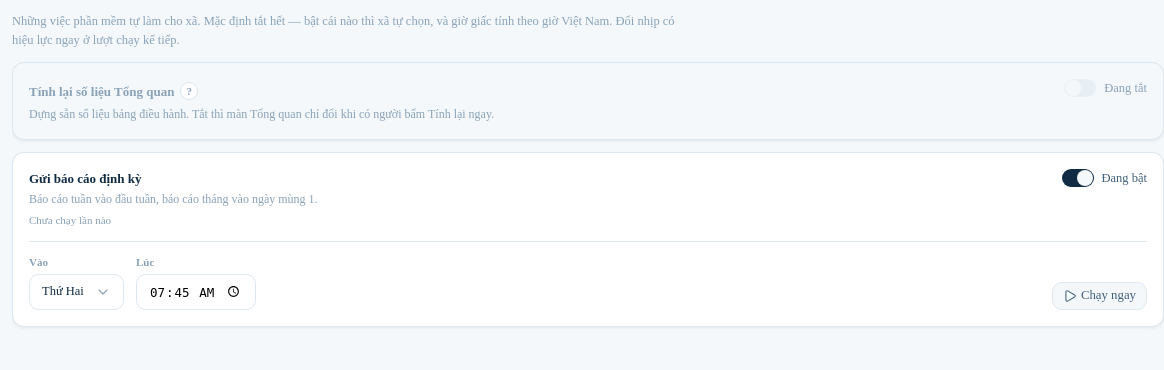
Test case: Tự động hoá — 'Gửi báo cáo định kỳ' cadence (ADR 0086 B) › 'Chạy ngay' posts the run request for scheduled_reports and draws the request line
Click the button "Chạy ngay" at (1099, 296), box [1052,282,1147,310]
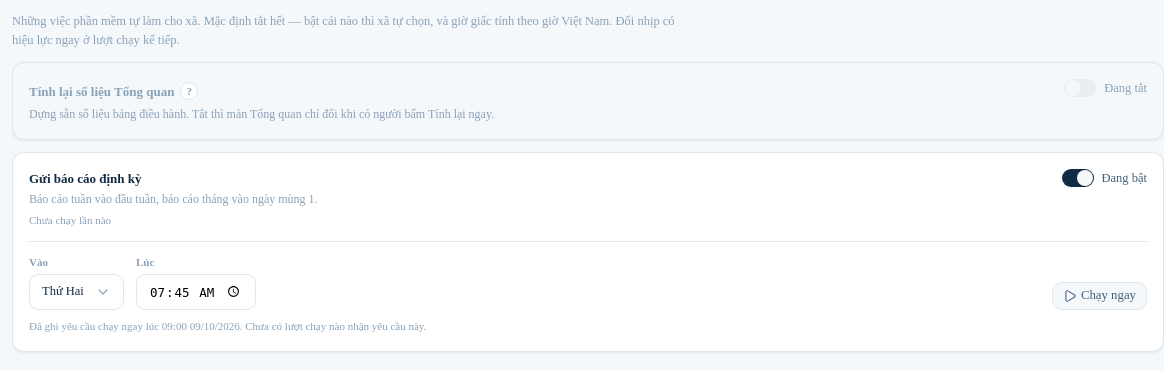
Check: the text "Đã ghi yêu cầu chạy ngay lúc" is shown, box [29,320,426,332]
